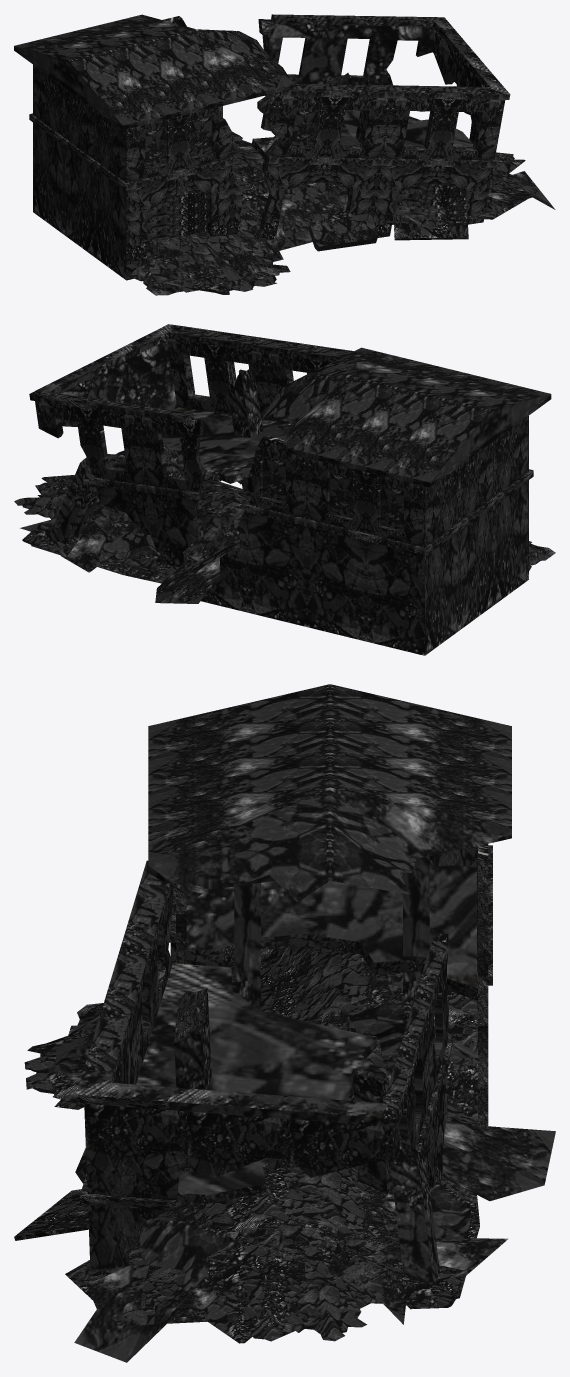
File: collapsed_fire_station.glb
3 views of the same model, one above another, from view 1: azimuth 30°, elevation 25°; view 2: azimuth 150°, elevation 25°; view 3: azimuth 270°, elevation 25° (orthographic). The views are drawn at different scales.
Parts seen in each view (by area): view 1: Destroyed_FireStation; view 2: Destroyed_FireStation; view 3: Destroyed_FireStation.
Boxes of the visible parts, left/top/right/bottom form: Destroyed_FireStation: left=14, top=14, right=555, bottom=295; Destroyed_FireStation: left=14, top=324, right=555, bottom=655; Destroyed_FireStation: left=14, top=684, right=555, bottom=1362.
Bounding box in the file's own units: 27.97 × 12.49 × 18.28.
Materials: 6 (6 with a texture image).
